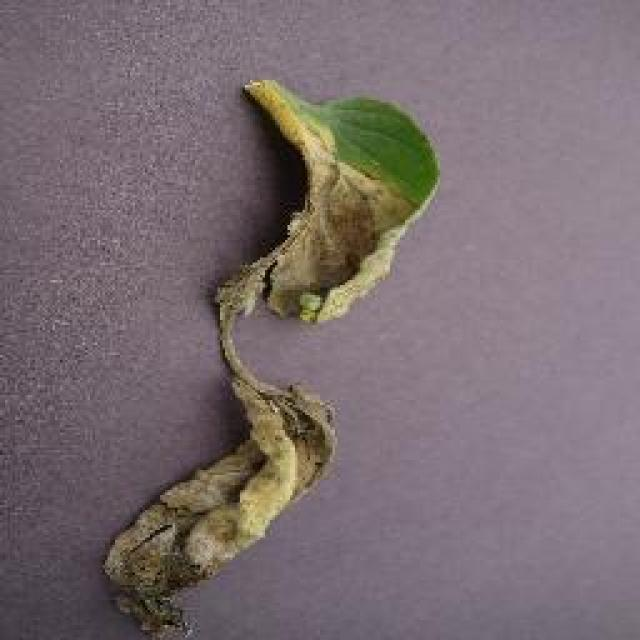Tomato___Late_blight: (102, 80, 442, 638)
